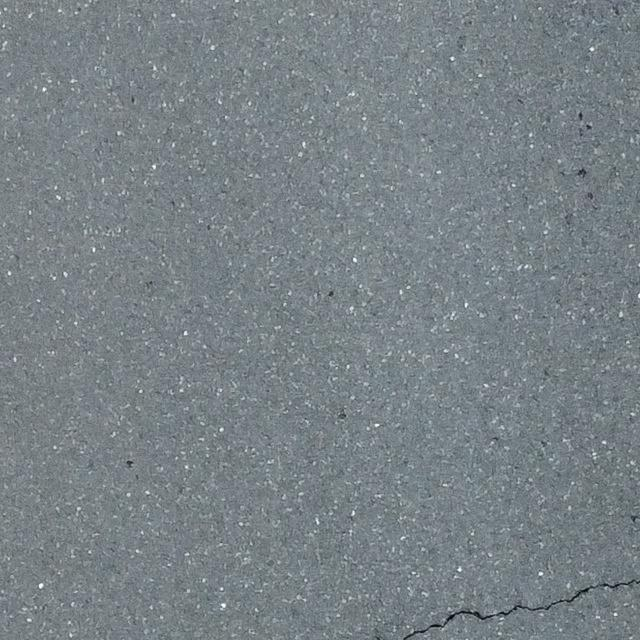TransverseCrack: (402, 578, 640, 639)
